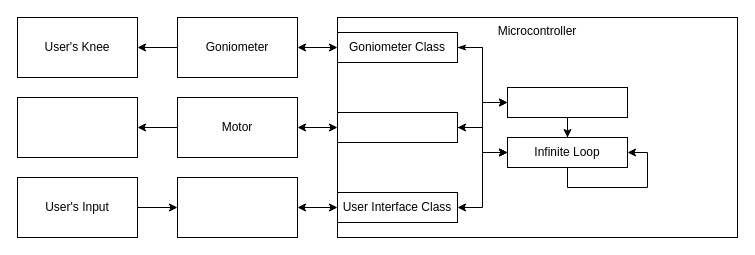
Some shapes in this 755 by 255 pixel diagram are drawn without their labels. The shapes that lost their labels are listed below. From the top down, each one's centre as x and y in pixels, then its label:
point (567, 102): Startup Code
point (77, 127): User's Ankle
point (397, 127): Motor Class
point (237, 207): User Interface
